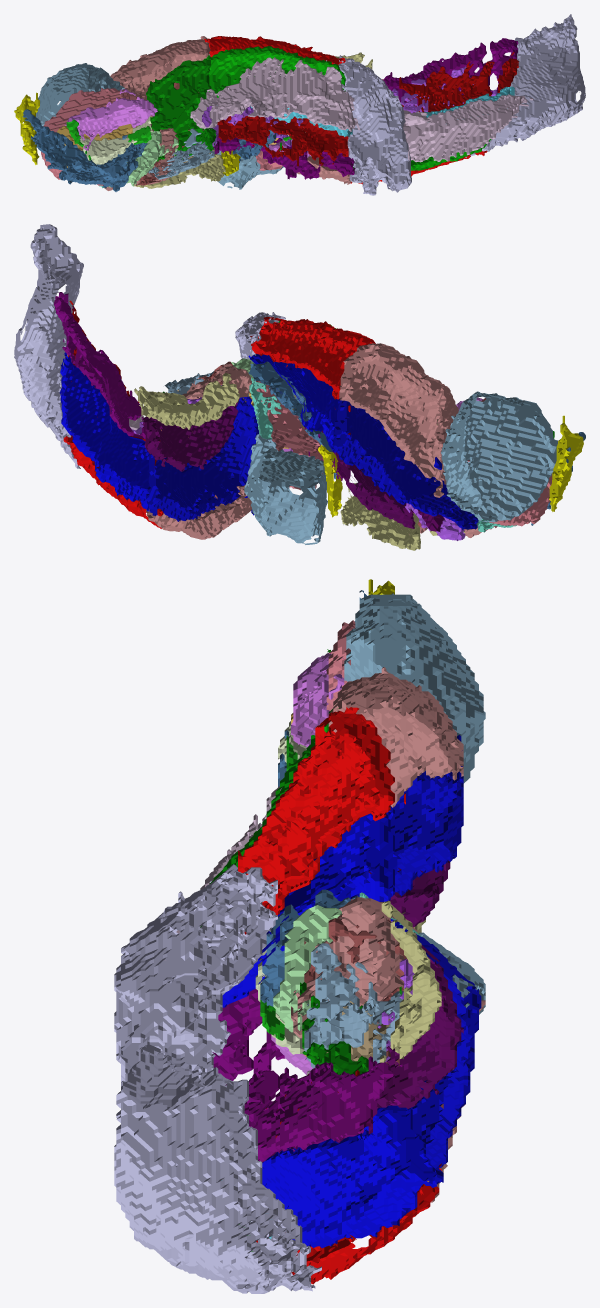
File: hippoAmygLabels.glb
The picture shows the model from 3 angles, top to bottom: view 1: azimuth 30°, elevation 25°; view 2: azimuth 150°, elevation 25°; view 3: azimuth 270°, elevation 25°; orthographic projection. The views are drawn at different scales.
Parts seen in each view (by area): view 1: lh - fimbria, rh - HP_tail, lh - HP_tail, rh - fimbria, lh - CA3-head, lh - Corticoamygdaloid-transitio, lh - molecular_layer_HP-body, lh - CA1-head, rh - molecular_layer_HP-body, lh - CA3-body, rh - presubiculum-body, lh - Lateral-nucleus (+21 smaller); view 2: lh - Lateral-nucleus, lh - CA1-head, rh - HP_tail, lh - subiculum-head, rh - Lateral-nucleus, rh - subiculum-body, rh - subiculum-head, lh - CA1-body, rh - presubiculum-body, rh - presubiculum-head, rh - CA1-head, rh - parasubiculum (+13 smaller); view 3: rh - HP_tail, lh - HP_tail, rh - subiculum-body, lh - CA1-body, lh - Lateral-nucleus, rh - presubiculum-body, lh - CA1-head, lh - subiculum-body, lh - subiculum-head, rh - GC-ML-DG-head, rh - subiculum-head, rh - CA1-head (+13 smaller).
Boxes of the visible parts, bbox=[...] form: lh - fimbria: bbox=[190, 57, 359, 131]; rh - HP_tail: bbox=[465, 14, 585, 157]; lh - HP_tail: bbox=[326, 55, 411, 195]; rh - fimbria: bbox=[403, 94, 533, 162]; lh - CA3-head: bbox=[146, 58, 216, 161]; lh - Corticoamygdaloid-transitio: bbox=[22, 109, 147, 191]; lh - molecular_layer_HP-body: bbox=[209, 88, 348, 166]; lh - CA1-head: bbox=[104, 36, 210, 190]; rh - molecular_layer_HP-body: bbox=[382, 52, 518, 112]; lh - CA3-body: bbox=[205, 46, 345, 98]; rh - presubiculum-body: bbox=[383, 38, 518, 105]; lh - Lateral-nucleus: bbox=[36, 63, 124, 133]; lh - Lateral-nucleus: bbox=[441, 391, 557, 522]; lh - CA1-head: bbox=[339, 343, 481, 537]; rh - HP_tail: bbox=[14, 224, 83, 468]; lh - subiculum-head: bbox=[333, 400, 478, 529]; rh - Lateral-nucleus: bbox=[244, 434, 327, 544]; rh - subiculum-body: bbox=[59, 352, 154, 511]; rh - subiculum-head: bbox=[146, 396, 258, 521]; lh - CA1-body: bbox=[250, 317, 375, 411]; rh - presubiculum-body: bbox=[54, 292, 145, 447]; rh - presubiculum-head: bbox=[142, 403, 238, 471]; rh - CA1-head: bbox=[146, 363, 251, 539]; rh - parasubiculum: bbox=[134, 373, 239, 429]; rh - HP_tail: bbox=[114, 1044, 321, 1293]; lh - HP_tail: bbox=[114, 864, 277, 1122]; rh - subiculum-body: bbox=[262, 1105, 436, 1248]; lh - CA1-body: bbox=[238, 707, 405, 915]; lh - Lateral-nucleus: bbox=[344, 593, 485, 783]; rh - presubiculum-body: bbox=[225, 1056, 403, 1162]; lh - CA1-head: bbox=[328, 667, 463, 807]; lh - subiculum-body: bbox=[222, 806, 397, 1007]; lh - subiculum-head: bbox=[367, 735, 463, 896]; rh - GC-ML-DG-head: bbox=[304, 943, 403, 1068]; rh - subiculum-head: bbox=[390, 919, 481, 1184]; rh - CA1-head: bbox=[291, 897, 485, 1202].
Size of the model in its own units: 89 by 30.67 by 28.
